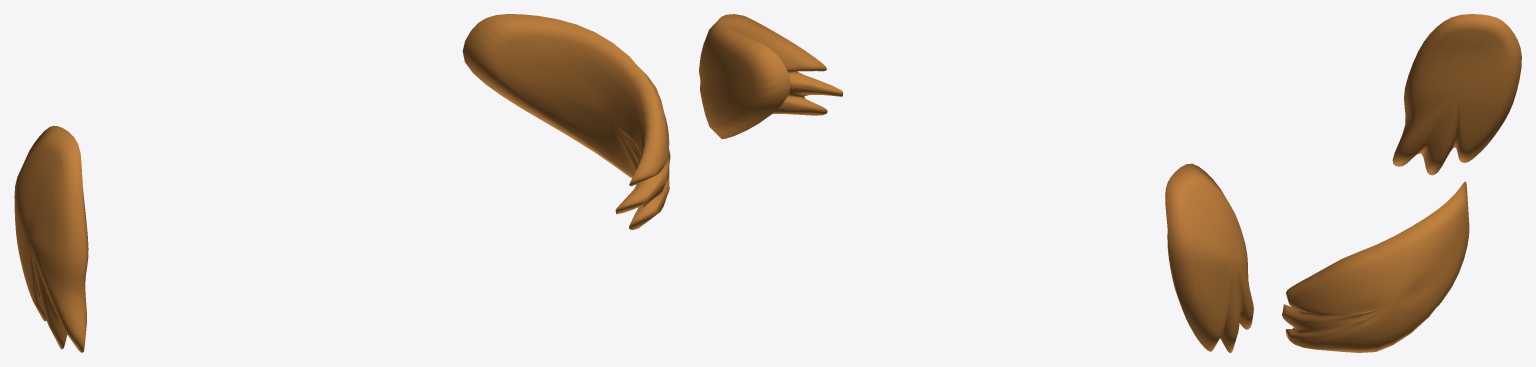
Rendered from species-grips-duck-ready-only.glb.
3 renders of one model, left to right at view 1: azimuth 30°, elevation 25°; view 2: azimuth 150°, elevation 25°; view 3: azimuth 270°, elevation 25°, orthographic. The views are drawn at different scales.
Parts seen in each view (by area): view 1: duck_rightArm_mesh, duck_leftArm_mesh; view 2: duck_leftArm_mesh, duck_rightArm_mesh; view 3: duck_rightArm_mesh, duck_leftArm_mesh.
Part boxes in pixels (x1,y1,x2,y2): duck_rightArm_mesh: [462, 14, 670, 229]; duck_leftArm_mesh: [14, 125, 88, 352]; duck_leftArm_mesh: [1165, 163, 1253, 352]; duck_rightArm_mesh: [699, 14, 843, 139]; duck_rightArm_mesh: [1282, 181, 1469, 352]; duck_leftArm_mesh: [1392, 14, 1521, 175].
Bounding box in the file's own units: 1.26 × 0.4434 × 0.5109.
